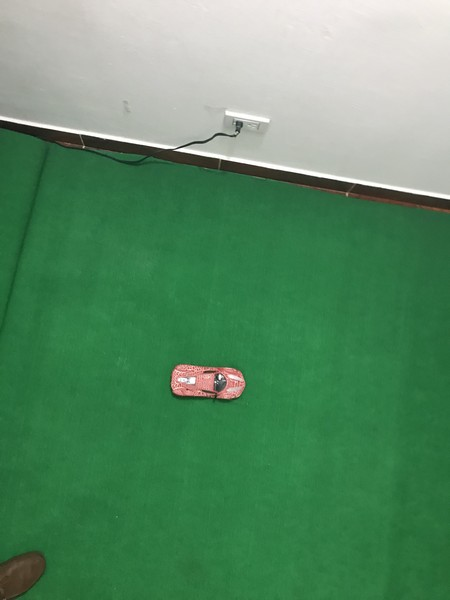RC: (168, 361, 247, 404)
